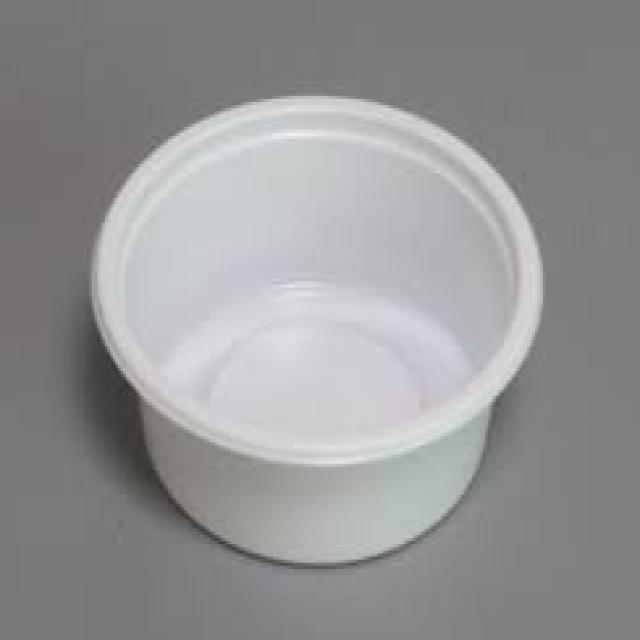disposable: (77, 77, 555, 582)
